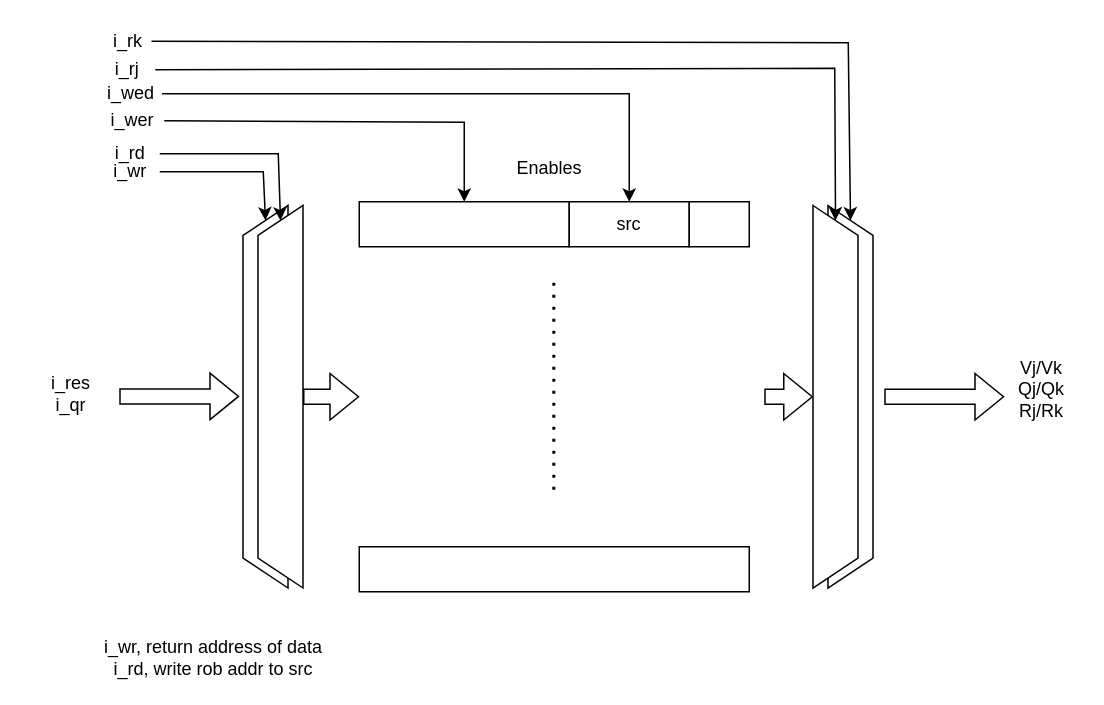
Image size: 1104x705. Some labels were removed from this diagram. Here are the shapes that lost their labels. From the top down, the centre of each, then its label:
(463,223): data
(718,223): ready
